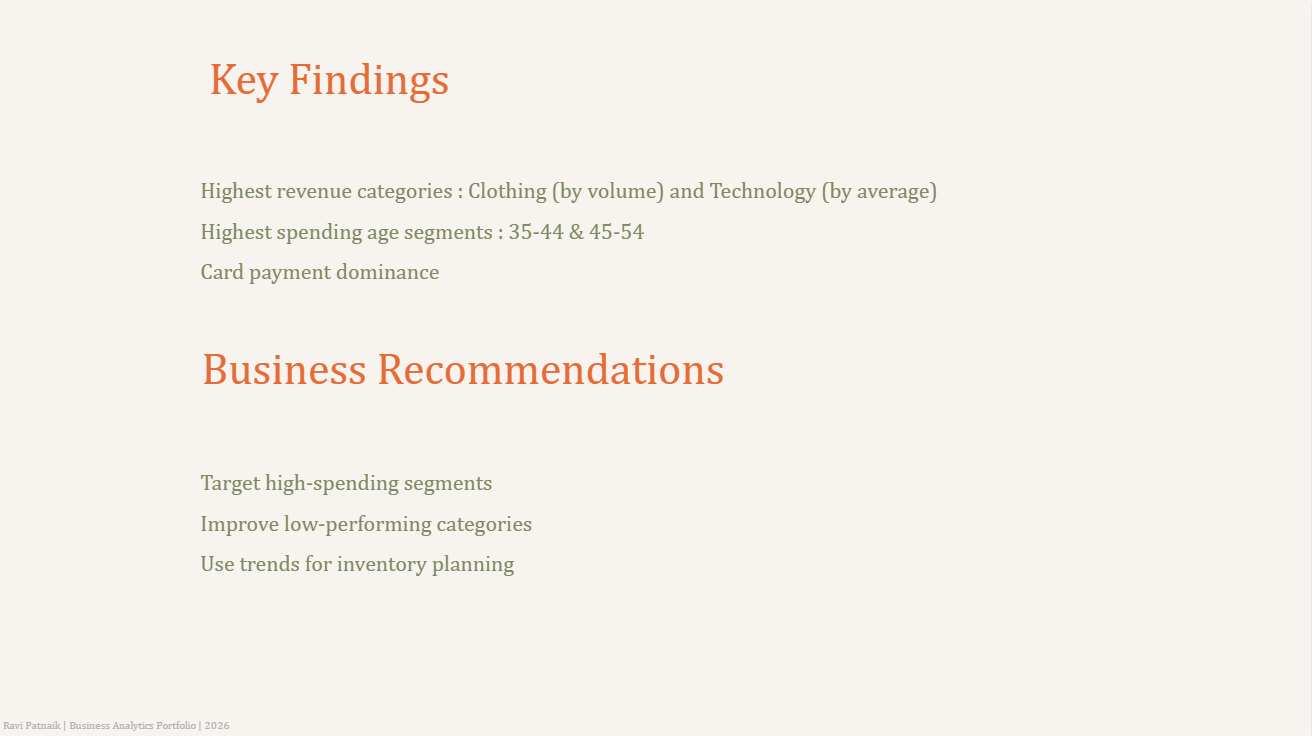

This screenshot's page, from the dashboard's own definition file:
{"tool":"powerbi","page":{"name":"Insights & Recommendations","canvas":[1280,720],"ordinal":3},"visuals":[{"type":"textbox","box":[192.2,45.6,261.1,60],"z":1000},{"type":"textbox","box":[192.2,167.8,756.7,118.9],"z":2000},{"type":"textbox","box":[192.2,328.9,522.2,61.1],"z":3000},{"type":"textbox","box":[192.2,452.2,756.7,120],"z":4000},{"type":"textbox","box":[0,693.3,243.3,26.7],"z":4001}]}

Visuals, with their boxes in screenshot pixels (x1, y1, x2, y2), scaled from the page's 1280x720 canvas onto the 1312x736 screenshot:
textbox: <region>197, 47, 465, 108</region>
textbox: <region>197, 172, 973, 293</region>
textbox: <region>197, 336, 732, 399</region>
textbox: <region>197, 462, 973, 585</region>
textbox: <region>0, 709, 249, 735</region>
